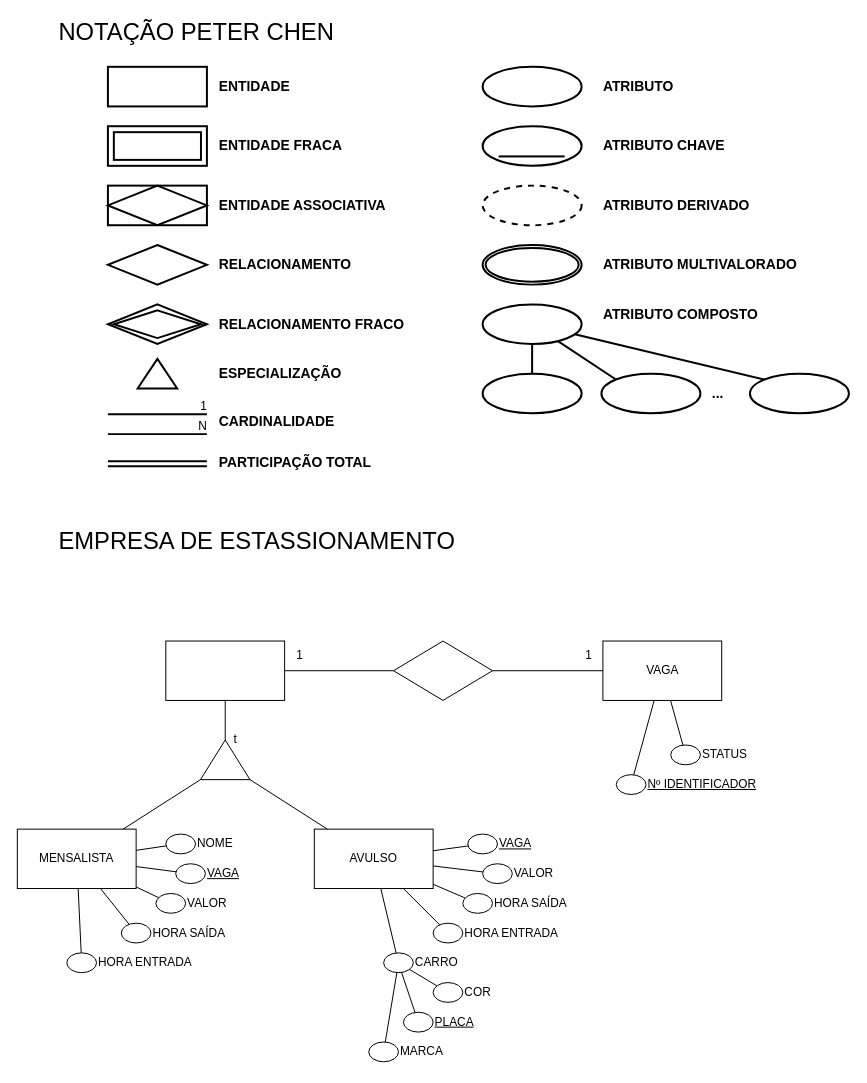
Some shapes in this 867 by 1083 pixel diagram are drawn without their labels. Here are the shapes that lost their labels. From the top down, the centre of each, then its label:
At pixel 225 670: "CLIENTE".
At pixel 443 670: "ALUGA".
